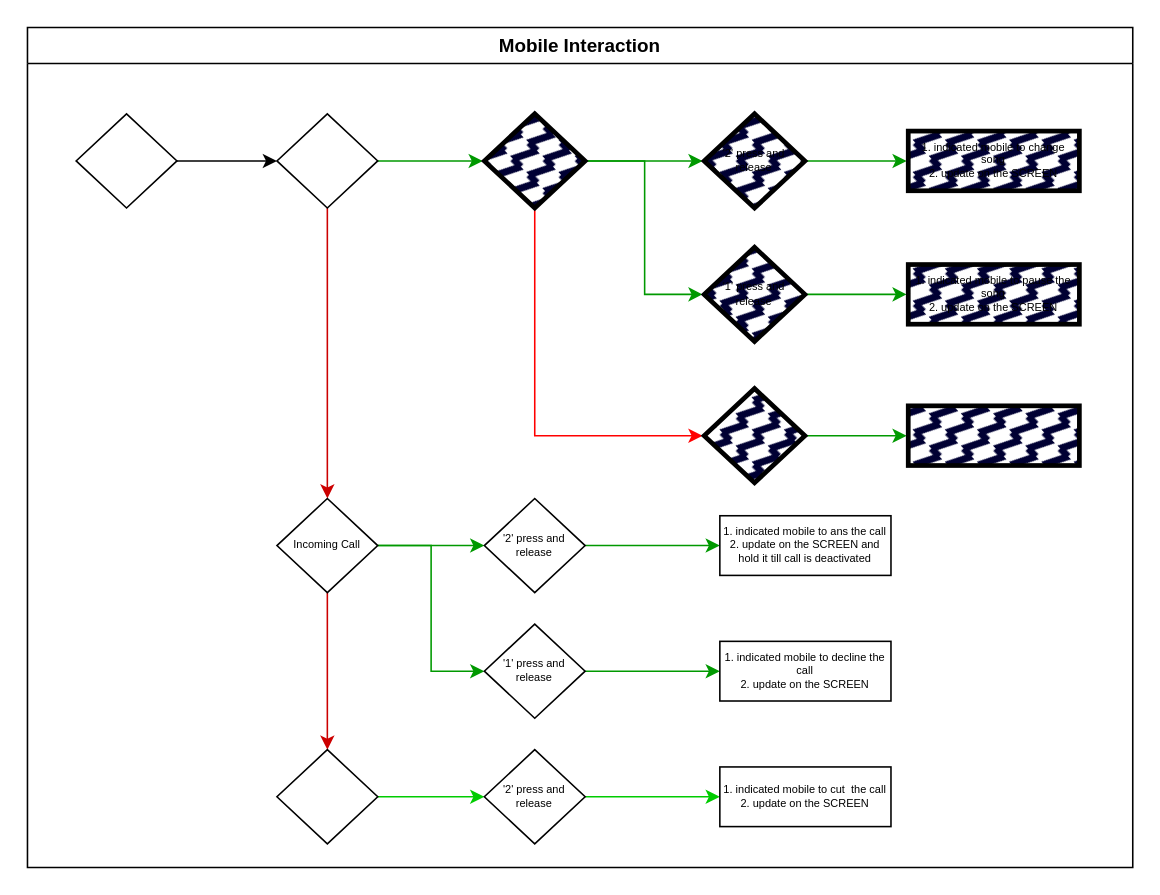
This 1160x895 diagram has some shape labels left out. Each missing label, with the centre of its shape:
"1. Indicate mobile to activate OKgoogle/Siri 2. update on the SCREEN" goes at pixel 993 435.
"IF mobile is connected" goes at pixel 126 160.
"Music playing" goes at pixel 534 160.
"On going call" goes at pixel 326 796.
"On going call or incoming call" goes at pixel 326 160.
"press and hold for 3s" goes at pixel 754 434.
